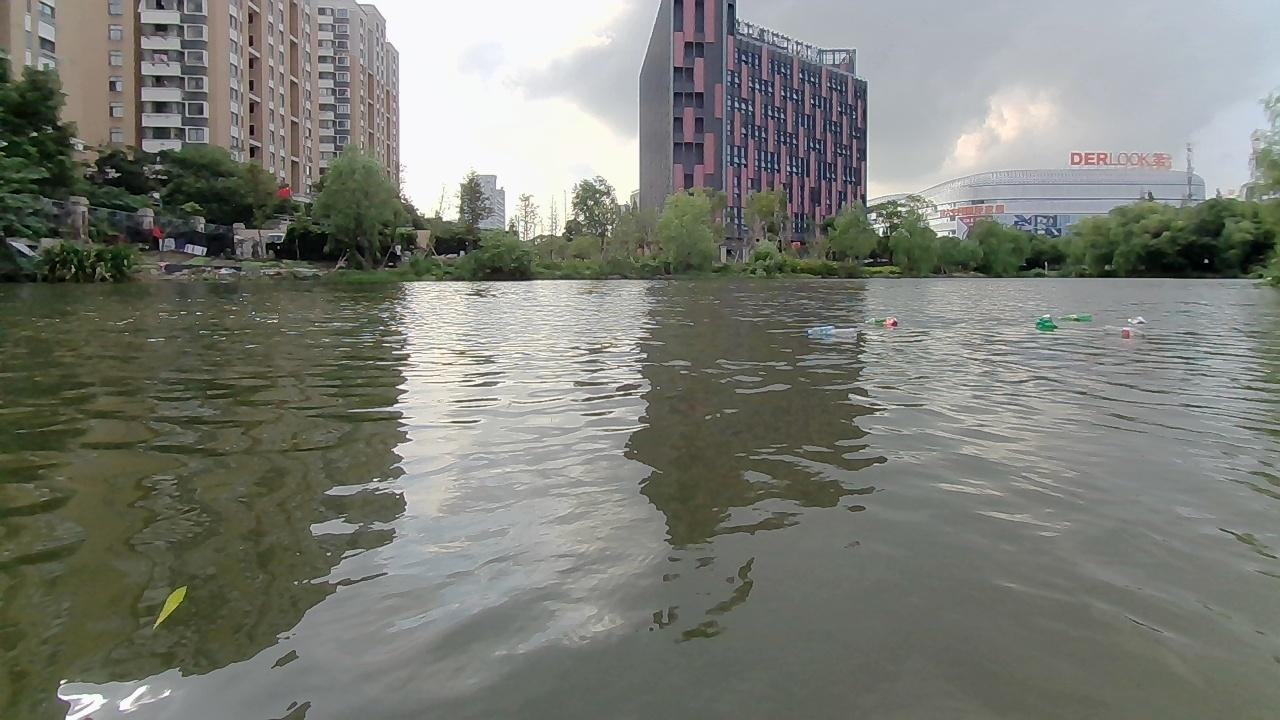bottle: (1100, 323, 1148, 340), (1060, 309, 1091, 326), (825, 326, 859, 339), (863, 317, 889, 327), (1037, 317, 1057, 330), (1128, 316, 1146, 330), (803, 326, 829, 335), (882, 316, 896, 327)
